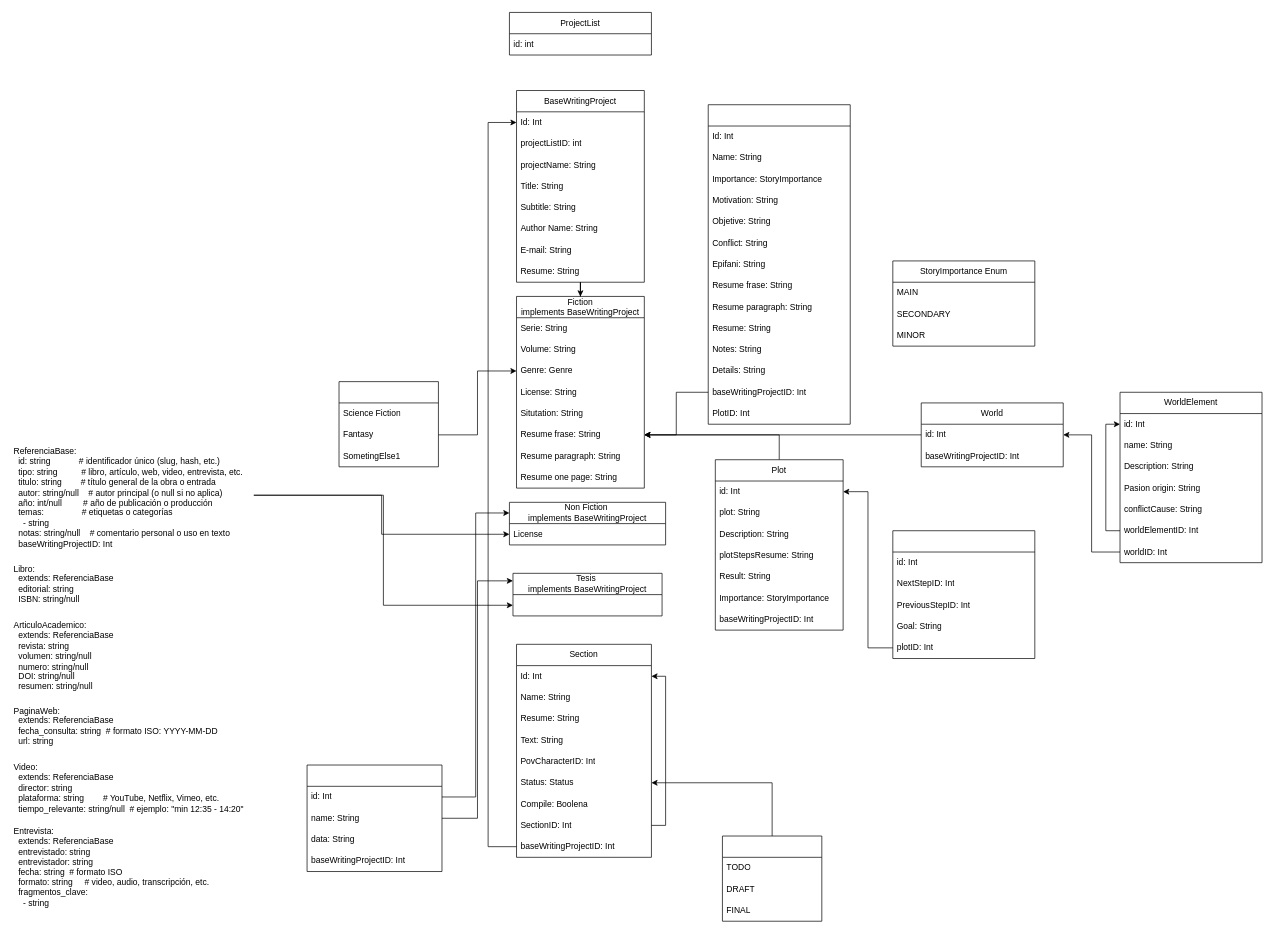
Image size: 1274x934. Some labels were removed from this diagram. Here are the shapes that lost their labels. From the top down, the box of each, then its label:
(708, 104, 850, 424): Character
(338, 381, 438, 467): Genre: Enum
(892, 530, 1035, 659): PlotStep
(306, 764, 442, 872): Sources
(722, 835, 822, 921): Status: Enum
